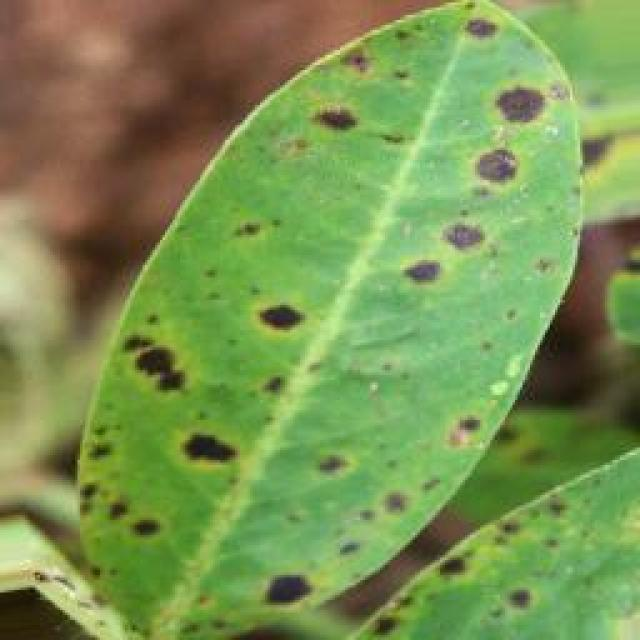Yellowish: (31, 0, 636, 609)
